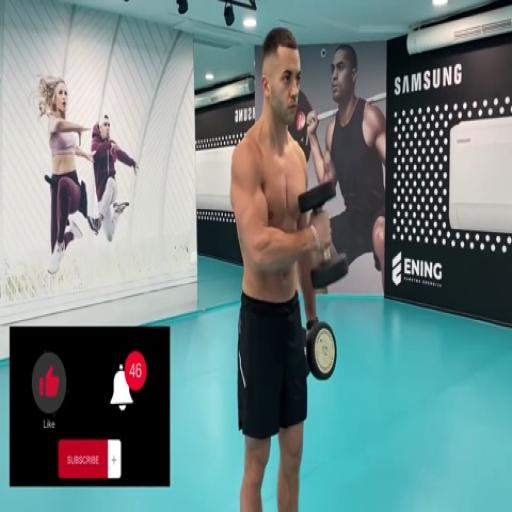exercise: (227, 26, 337, 510), (304, 42, 387, 294), (34, 72, 98, 278), (86, 111, 140, 245)
